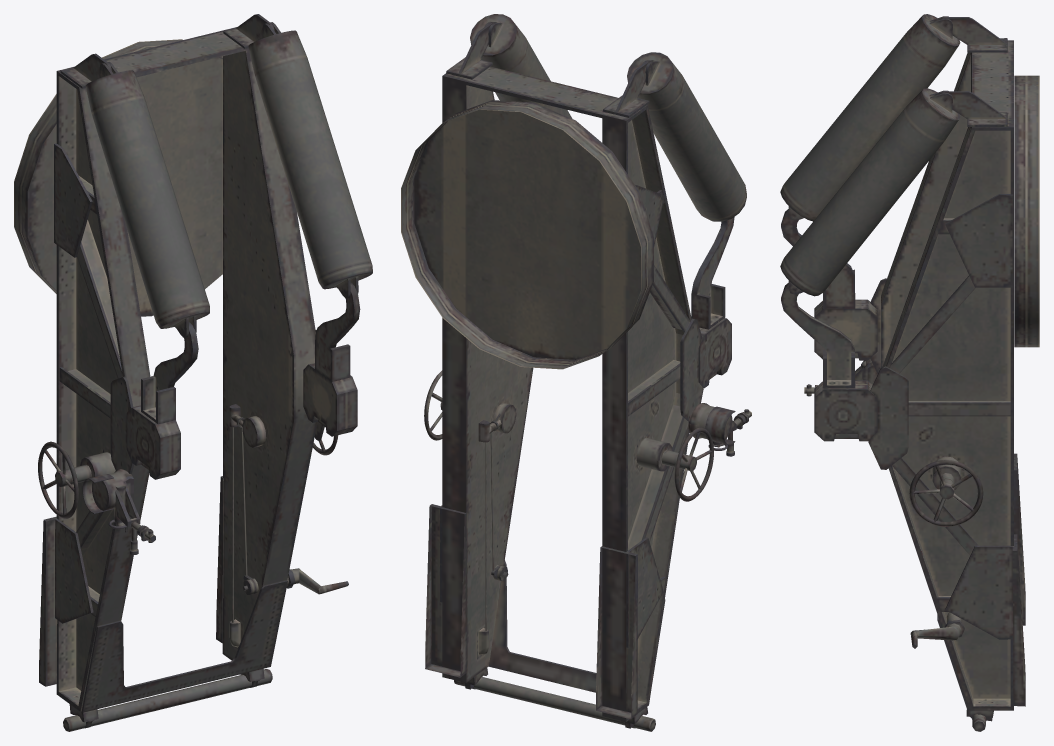
File: Turret_01.glb
3 renders of one model, left to right at view 1: azimuth 30°, elevation 25°; view 2: azimuth 150°, elevation 25°; view 3: azimuth 270°, elevation 25°, orthographic. The views are drawn at different scales.
Visible parts, largest first — view 1: set_0_group_0; view 2: set_0_group_0; view 3: set_0_group_0.
Part boxes in pixels (x1,y1,x2,y2): set_0_group_0: [14, 14, 372, 731]; set_0_group_0: [401, 14, 751, 731]; set_0_group_0: [780, 14, 1039, 731].
Size of the model in its own units: 1.72 by 4.02 by 1.49.
1 material, 1 textured.
